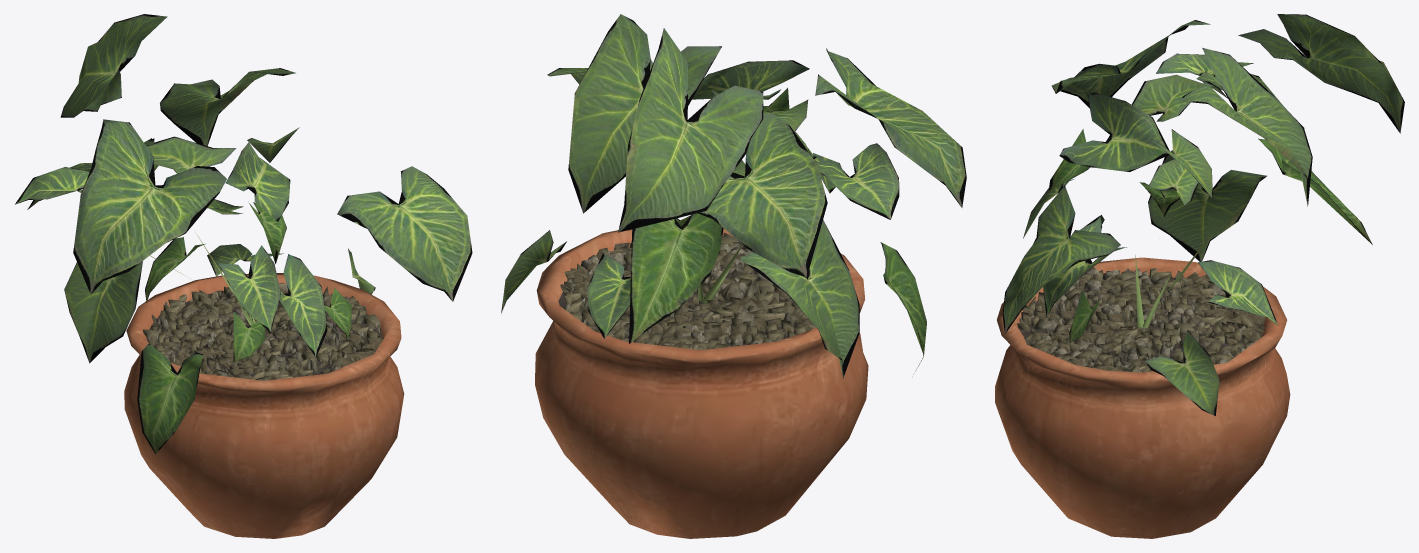
The model's file is plant.glb.
The picture shows the model from 3 angles, left to right: view 1: azimuth 30°, elevation 25°; view 2: azimuth 150°, elevation 25°; view 3: azimuth 270°, elevation 25°; orthographic projection. The views are drawn at different scales.
Parts seen in each view (by area): view 1: potted_plant_02_leaves, potted_plant_02_pot; view 2: potted_plant_02_leaves, potted_plant_02_pot; view 3: potted_plant_02_pot, potted_plant_02_leaves.
Boxes of the visible parts, box(x1,y1,x2,y2) form: potted_plant_02_leaves: box(15, 14, 472, 453); potted_plant_02_pot: box(124, 273, 404, 538); potted_plant_02_leaves: box(501, 14, 966, 378); potted_plant_02_pot: box(535, 228, 868, 538); potted_plant_02_pot: box(995, 257, 1290, 538); potted_plant_02_leaves: box(1002, 14, 1404, 415).
Bounding box in the file's own units: 0.7009 × 0.8395 × 0.6554.
2 materials, 2 textured.
